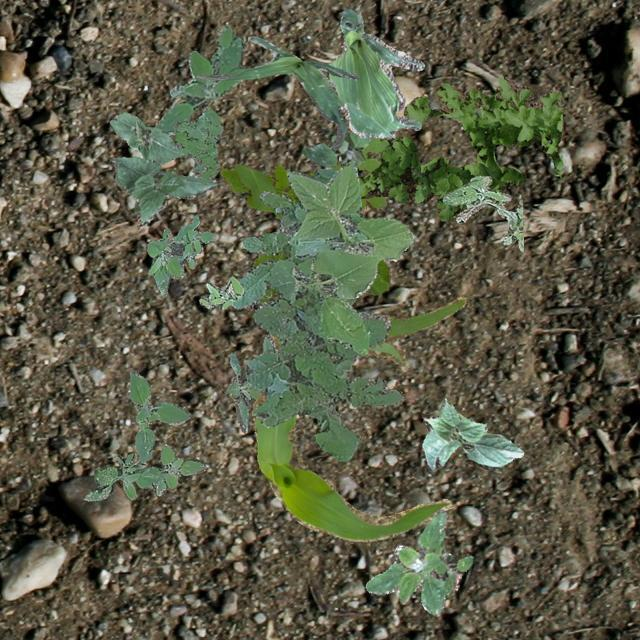crop: (251, 296, 465, 540), (196, 35, 358, 148), (328, 8, 423, 138), (110, 156, 216, 224), (422, 398, 522, 470), (109, 112, 182, 164)
weed: (230, 168, 402, 462), (358, 76, 562, 220), (218, 136, 390, 302), (270, 160, 412, 354), (82, 370, 204, 500), (364, 508, 472, 614), (153, 24, 244, 134), (442, 174, 522, 250), (146, 214, 214, 296), (224, 334, 274, 432), (172, 106, 222, 184), (302, 130, 371, 166), (198, 276, 242, 310)
